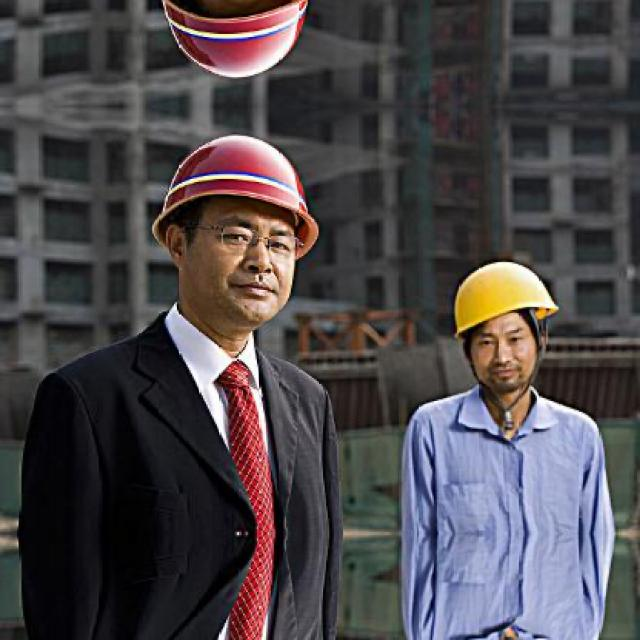helmet: (136, 122, 332, 344), (437, 236, 581, 412), (134, 0, 332, 93)
